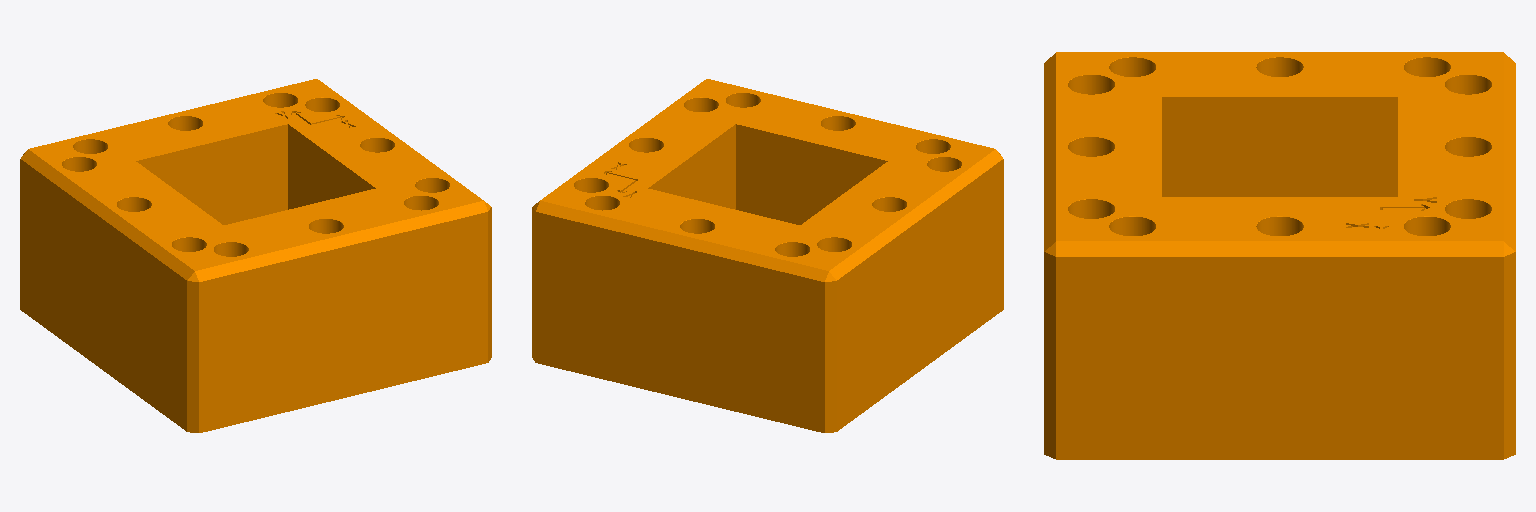
The robot description file, URDF, robot "hole_sqr":
<?xml version="1.0" ?>
<robot name="hole_sqr">
  <link concave="yes" name="hole_link">
    <contact>
      <lateral_friction value="1.0"/>
      <!-- <rolling_friction value="0.5"/>
      <contact_cfm value="0.0"/> -->
      <contact_erp value="0.0"/> 
    </contact>
    <inertial>
      <origin rpy="1.57079632679 0 0" xyz="-0.042 -0.042 0"/>
        <mass value="0.1"/>
        <inertia ixx="0.01" ixy="0" ixz="0" iyy="0.01" iyz="0" izz="0.01"/>
    </inertial>
    <visual>
      <origin rpy="1.57079632679 0 0" xyz="-0.042 -0.042 0"/>
      <geometry>
			  <mesh filename="meshes/hole/hole_sqr.STL" scale="0.001 0.001 0.001"/>
      </geometry>
      <material name="orange">
        <color rgba="1 0.6 0 1"/>
      </material>
    </visual>
    <collision concave="yes">
      <origin rpy="1.57079632679 0 0" xyz="-0.042 -0.042 0"/>
      <geometry>
	 	    <mesh filename="meshes/hole/hole_sqr.STL" scale="0.001 0.001 0.001"/>
      </geometry>
    </collision>
  </link>
  <link name="hole_target_link">
    <inertial>
      <mass value="0" />
      <origin rpy="0 0 0" xyz="0.0 0.0 0.0" />
      <inertia ixx="0.0" ixy="0.0" ixz="0.0" iyy="0.0" iyz="0.0" izz="0.0" />
    </inertial>
  </link>
  <joint name="hole_link-hole_target_link" type="fixed">
    <parent link="hole_link"/>
    <child link="hole_target_link"/>
    <origin rpy="0.0 0.0 0.0" xyz="0.0 0.0 0.0"/>
  </joint>
</robot>

--- Render facts (derived) ---
The picture shows the robot from 3 angles, left to right: view 1: azimuth 30°, elevation 25°; view 2: azimuth 150°, elevation 25°; view 3: azimuth 270°, elevation 25°; orthographic projection.
Model hole_sqr with 2 links and 1 joints (1 fixed), rooted at hole_link, posed every joint at zero.
Links seen in each view (by area): view 1: hole_link; view 2: hole_link; view 3: hole_link.
Boxes of the visible links, bbox=[...] form: hole_link: bbox=[20, 79, 491, 432]; hole_link: bbox=[532, 79, 1003, 432]; hole_link: bbox=[1044, 52, 1515, 459].
Size in the robot's own frame: 0.08 by 0.08 by 0.04 metres.
1 mesh visuals loaded from 1 distinct referenced files (1 binary STL).